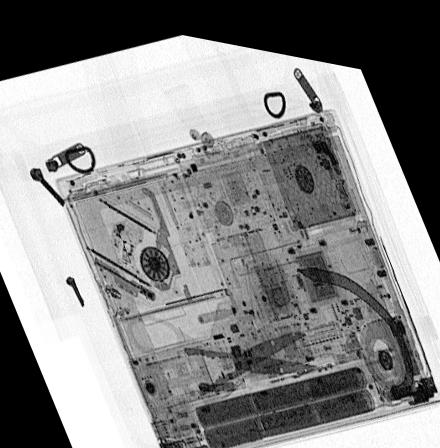Scissors: (122, 308, 324, 426)
